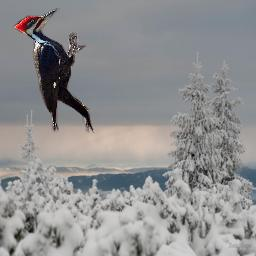Woodpecker: (13, 8, 94, 133)
